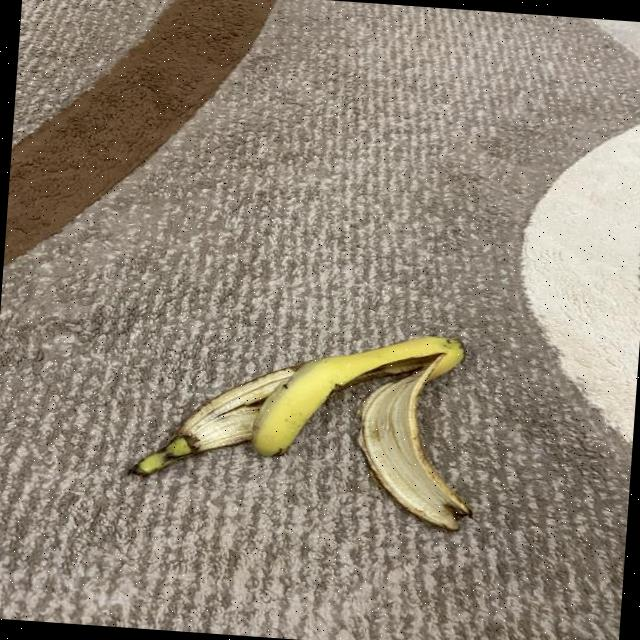banana-peel: (124, 312, 486, 533), (248, 320, 466, 470), (350, 348, 484, 533), (126, 352, 298, 486)
